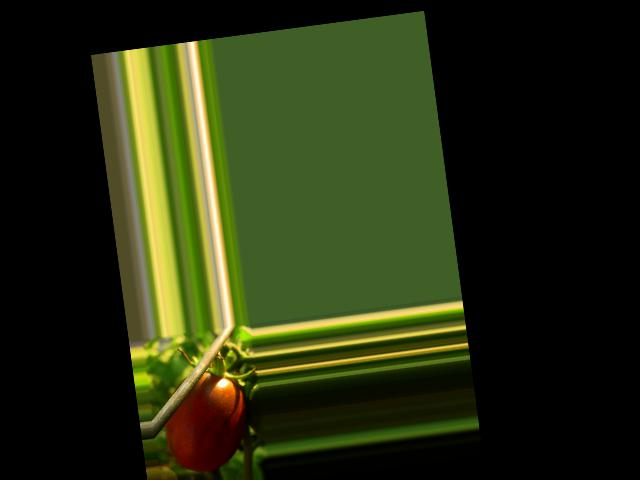tomato: (159, 368, 252, 475)
